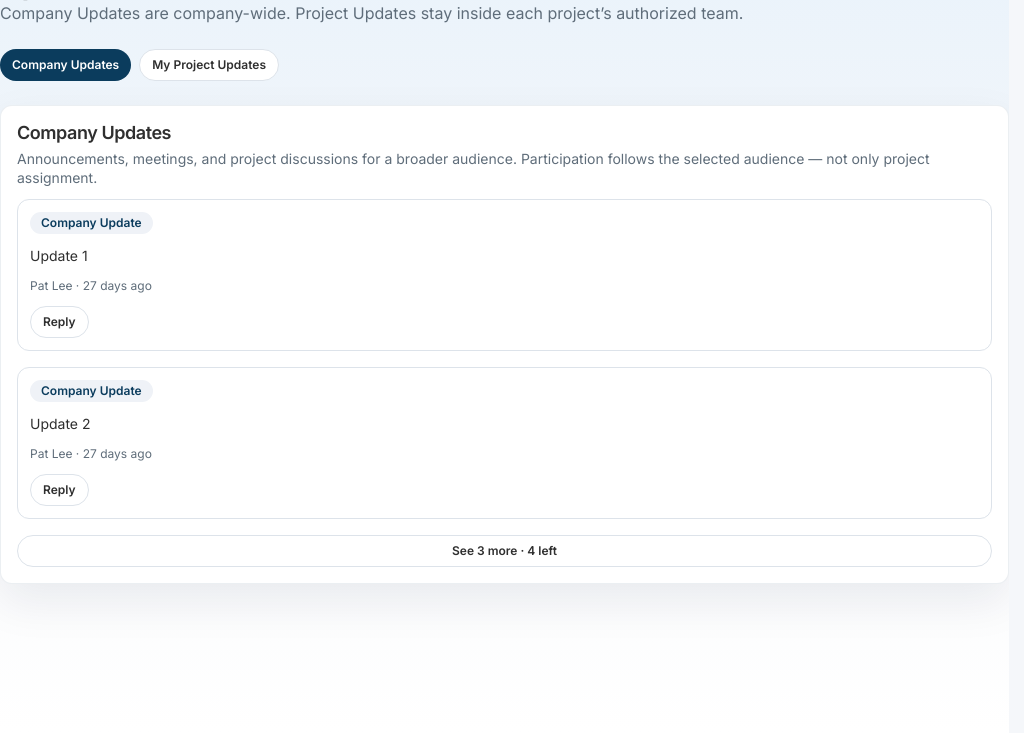
Test case: Employee company updates › shows two updates, then three more at a time
Expected: the text "Update 1" is shown, [30,247,88,264]
Expected: the text "Update 2" is shown, [30,415,90,432]
Click the button "See 3 more · 4 left". click: (504, 551)
box: [17,535,992,567]
(page scrolled)
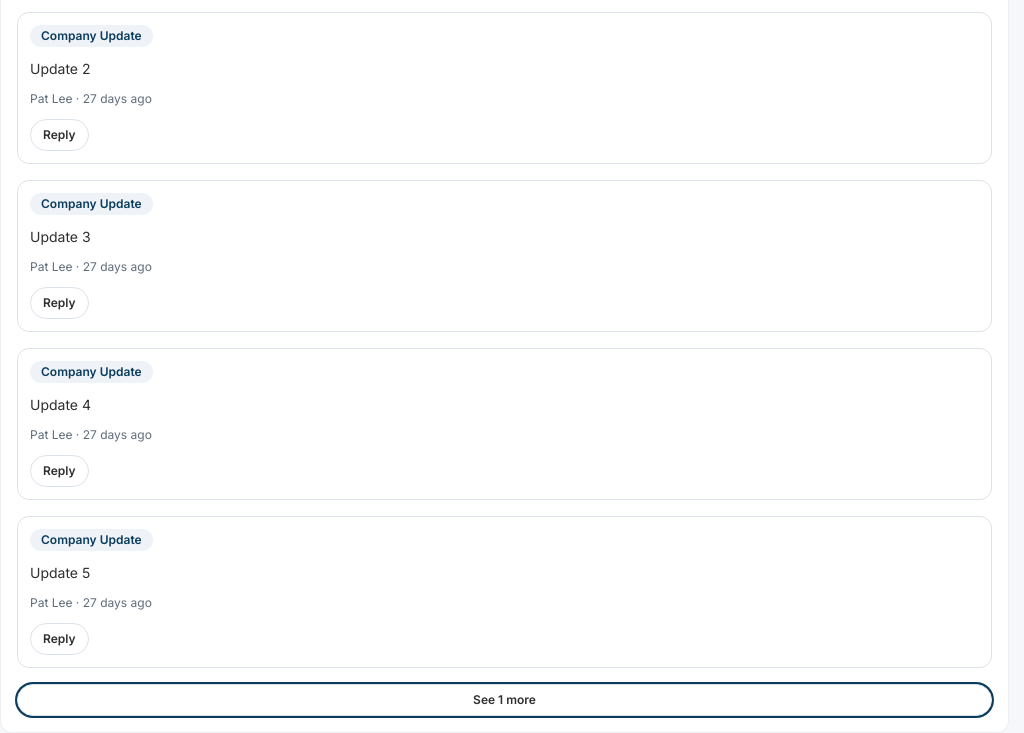
Expected: the text "Update 6" is not shown
Expected: the text "Update 5" is shown, [30,564,90,581]
Click the button "See 1 more". click: (504, 700)
box: [17,684,992,716]
(page scrolled)
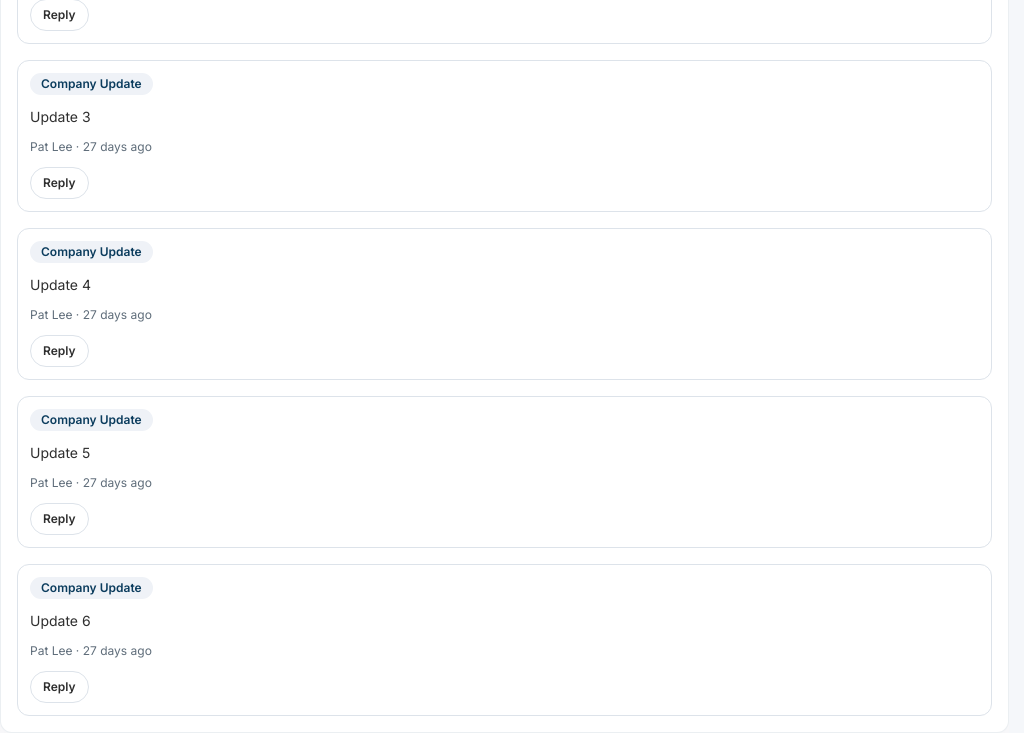
Expected: the text "Update 6" is shown, [30,612,91,629]
